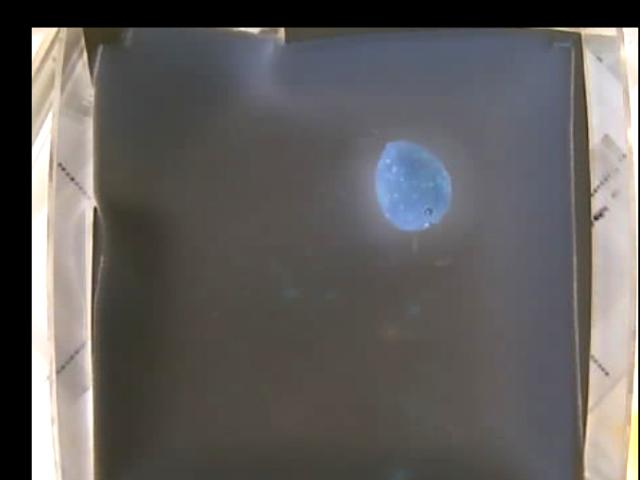Potato: (374, 138, 450, 230)
